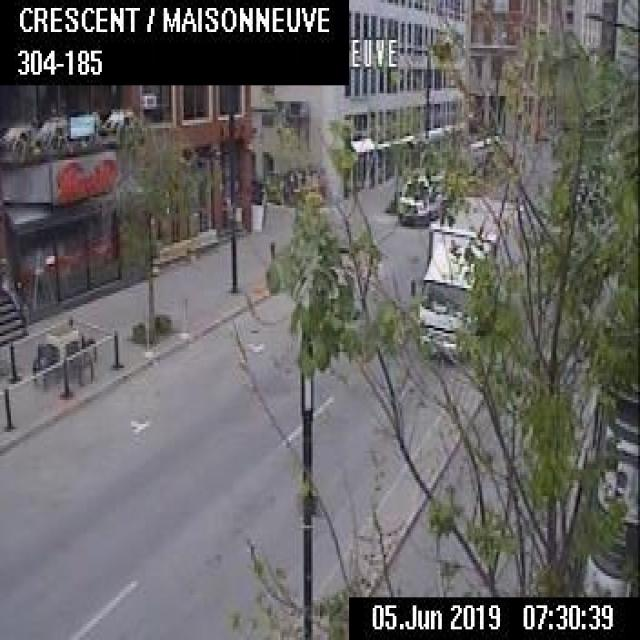vehicle: (409, 192, 523, 354), (397, 166, 448, 225)
